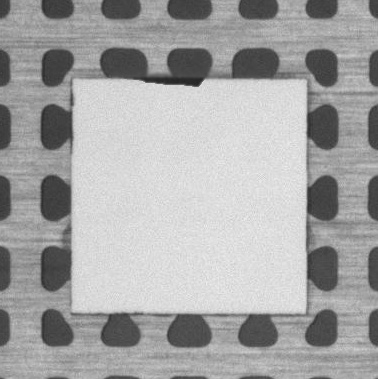DIE_BROKEN: (131, 73, 210, 89)
